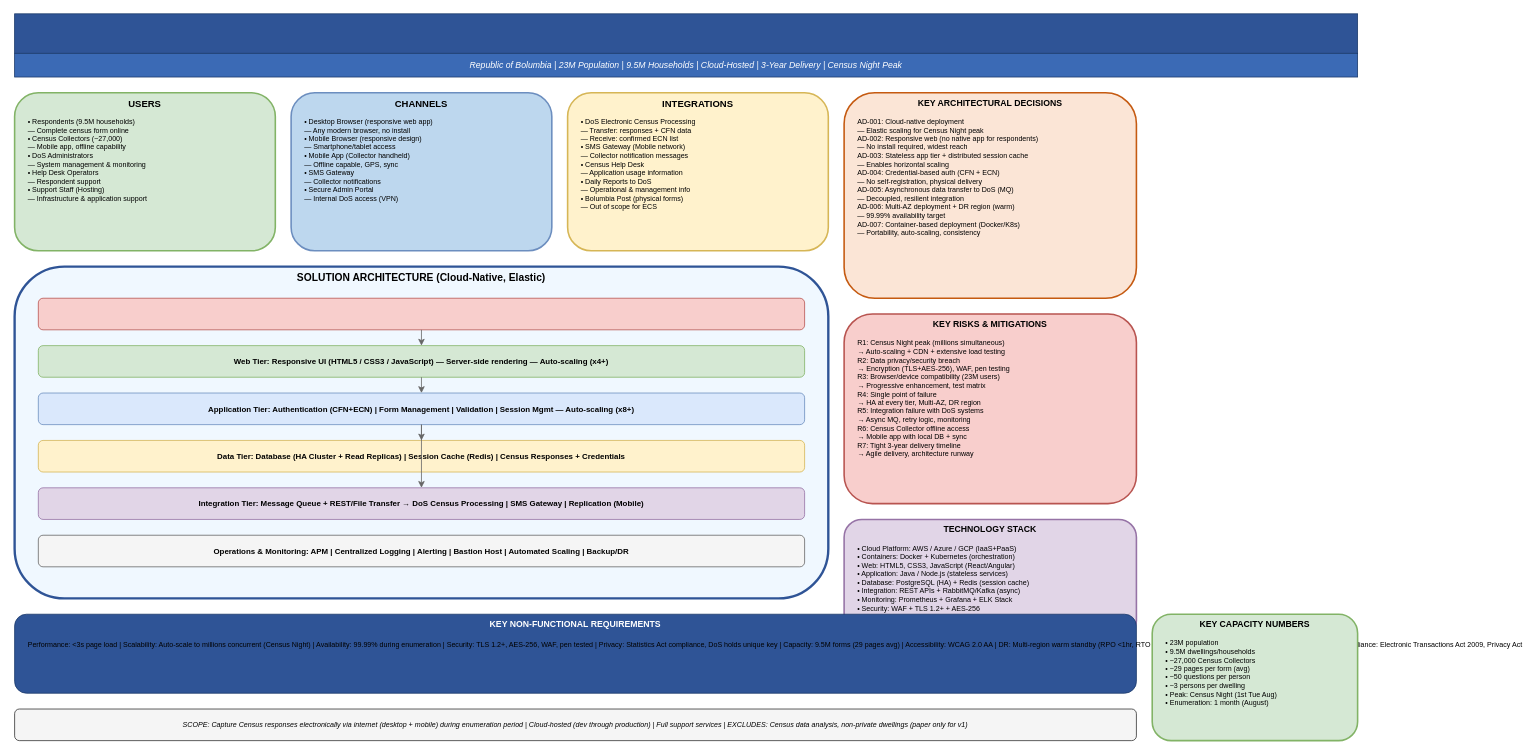
Some shapes in this 1537 by 755 pixel diagram are drawn without their labels. The centre of each missing label's shape, as x and y in pixels:
"CDN + WAF + DDoS Protection + Load Balancer (Active-Active, Multi-AZ)" belongs at point 421,313.
"Electronic Census System (ECS) — Architecture on a Page" belongs at point 686,33.
